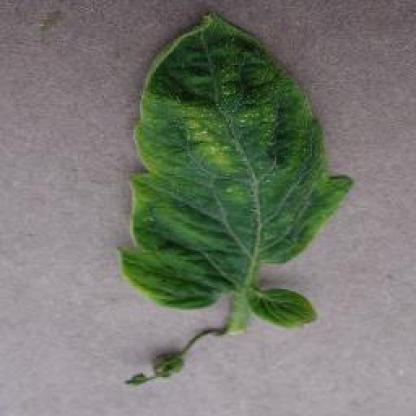good leaf: (146, 27, 335, 304)
